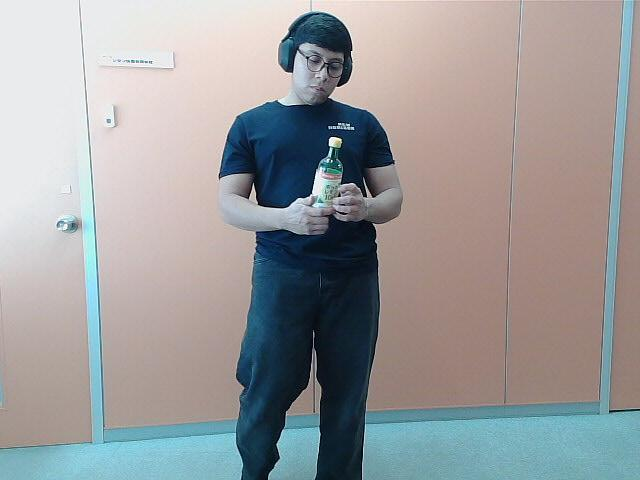Lemon_sapporo: (303, 137, 350, 211)
